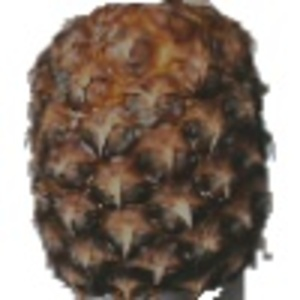abacaxi: (20, 2, 275, 299)
